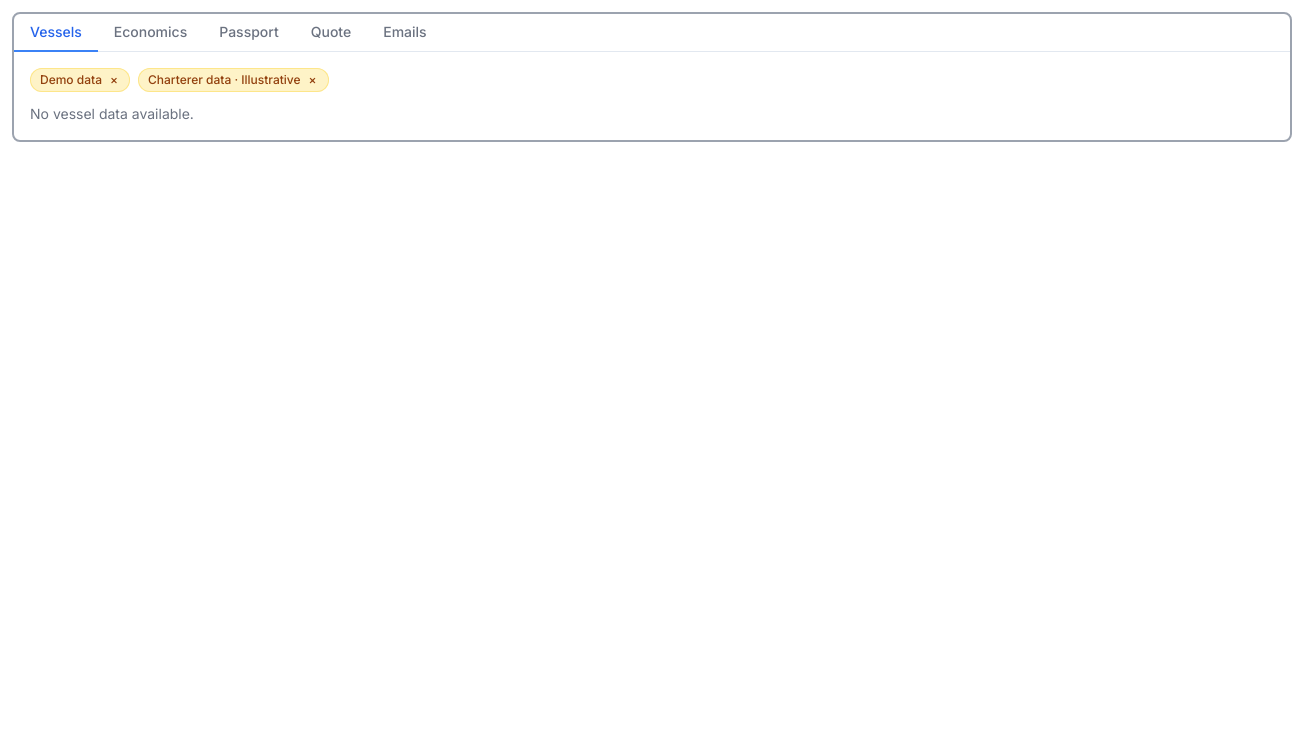
MatchTabs › tab navigation › switches to Economics tab on click
Step 1. Click the tab "Economics" → (151, 33), box x1=98 y1=14 x2=203 y2=52
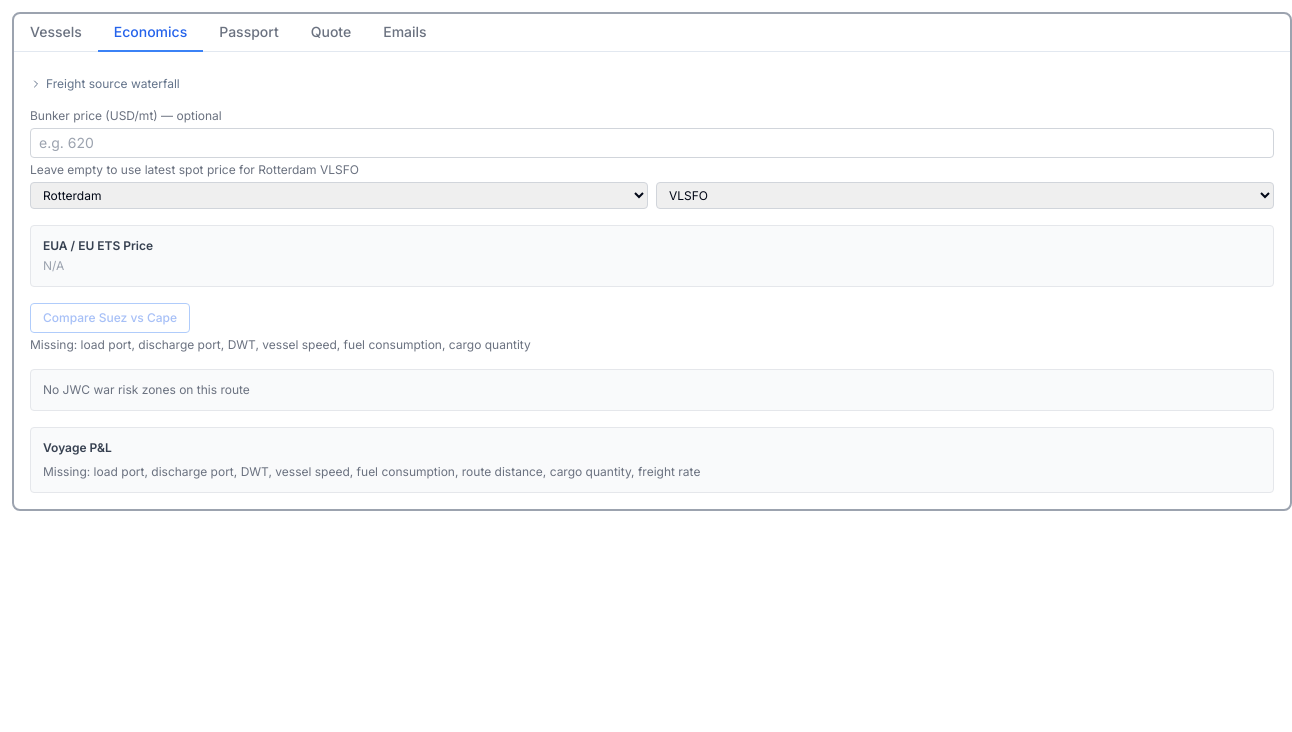
Result: the element with test id "tab-economics" is shown at x1=30 y1=76 x2=1274 y2=493
Result: the element with test id "tab-vessels" is gone
